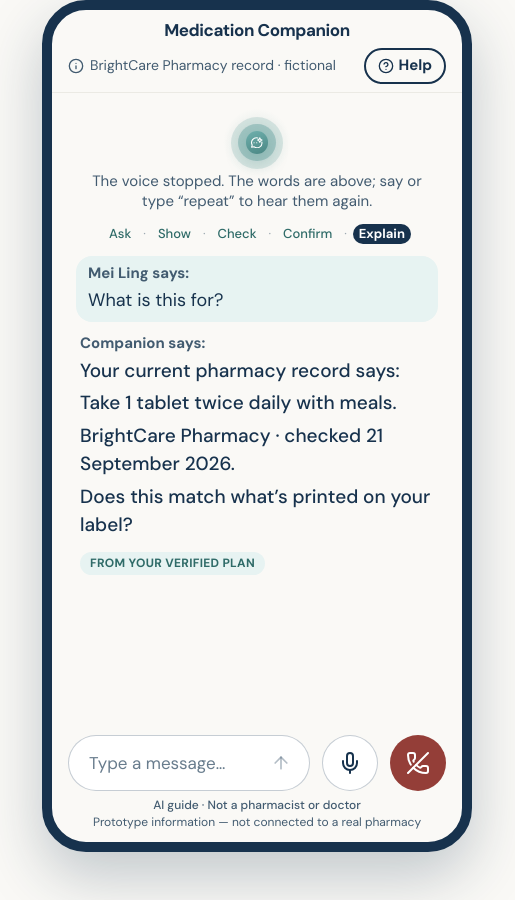
Test: in-call flow › beside the instruction: says the dated source and asks to compare with the label, in words; 'it looks different' reaches safety
Check: the text "Take 1 tablet twice daily with meals." is shown, box x1=80 y1=389 x2=434 y2=418
Check: the text "BrightCare Pharmacy · checked 21 September 2026." is shown, box x1=80 y1=422 x2=434 y2=478
In the field labelled "Type a message…": [171, 763] box x1=89 y1=736 x2=253 y2=790, type "it looks different"
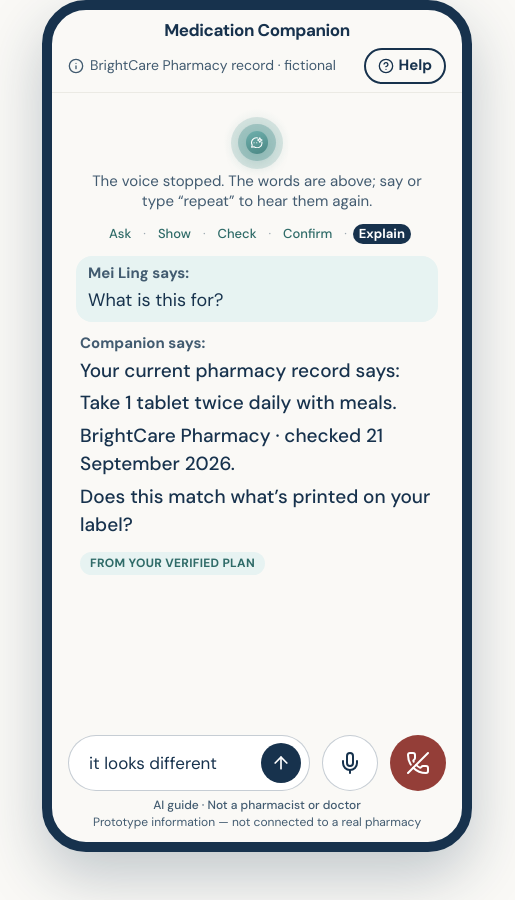
Submit the form named "type a message", box x1=68 y1=735 x2=310 y2=791
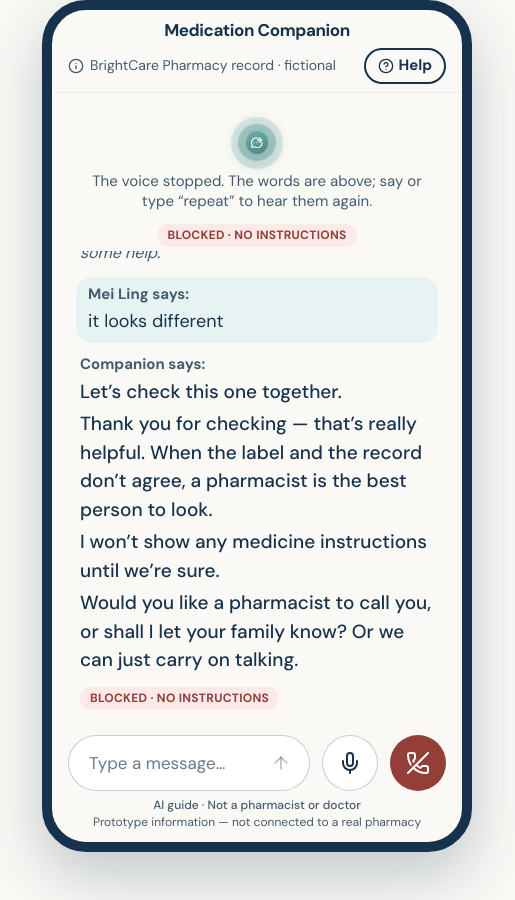
Check: the text "When the label and the record don’t agree, a pharmacist is the best person to look" is shown, box x1=80 y1=411 x2=422 y2=522
Check: the text "Would you like a pharmacist to call you, or shall I let your family know? Or we can just carry on talking." is shown, box x1=80 y1=590 x2=431 y2=672
Check: the text "Take 1 tablet twice daily with meals." is gone
